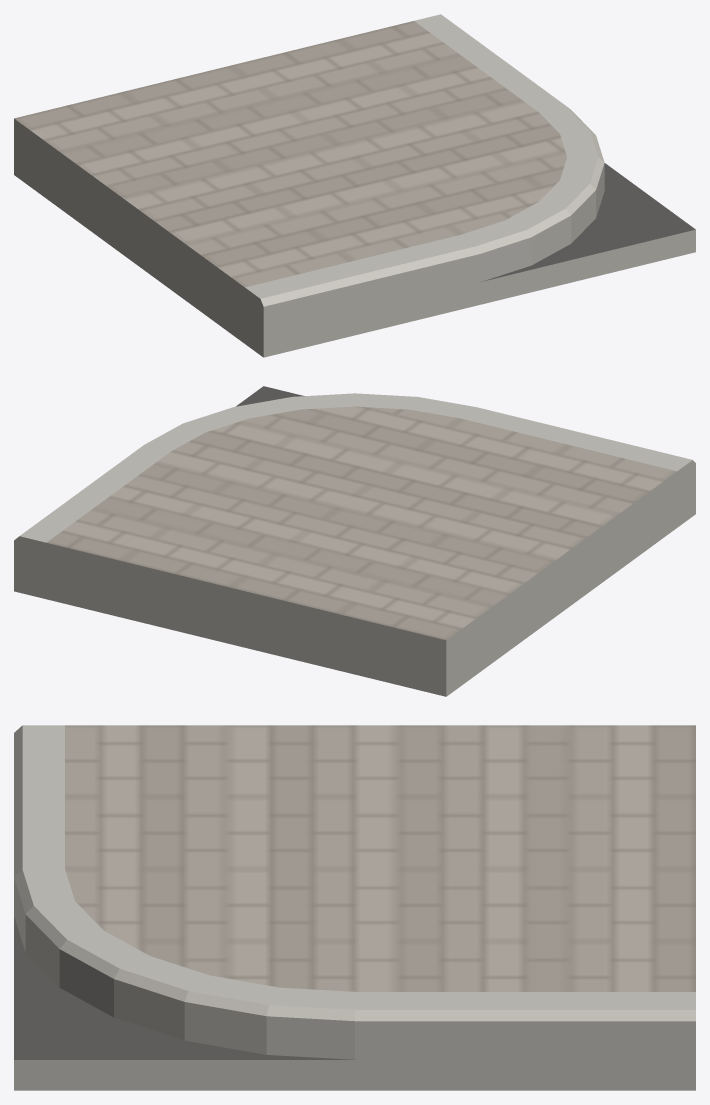
File: SM_Ground_SidewalkCorner_200_R100_R_01.fbx
The picture shows the model from 3 angles, top to bottom: view 1: azimuth 30°, elevation 25°; view 2: azimuth 150°, elevation 25°; view 3: azimuth 270°, elevation 25°; orthographic projection. The views are drawn at different scales.
Parts seen in each view (by area): view 1: SM_Ground_SidewalkCorner_200_R100_R_01; view 2: SM_Ground_SidewalkCorner_200_R100_R_01; view 3: SM_Ground_SidewalkCorner_200_R100_R_01.
Boxes of the visible parts, x1,y1,x2,y2 form: SM_Ground_SidewalkCorner_200_R100_R_01: (14,14,695,357); SM_Ground_SidewalkCorner_200_R100_R_01: (14,386,695,696); SM_Ground_SidewalkCorner_200_R100_R_01: (14,725,695,1090).
Bounding box in the file's own units: 2 × 0.25 × 2.
1 material, 1 textured.
